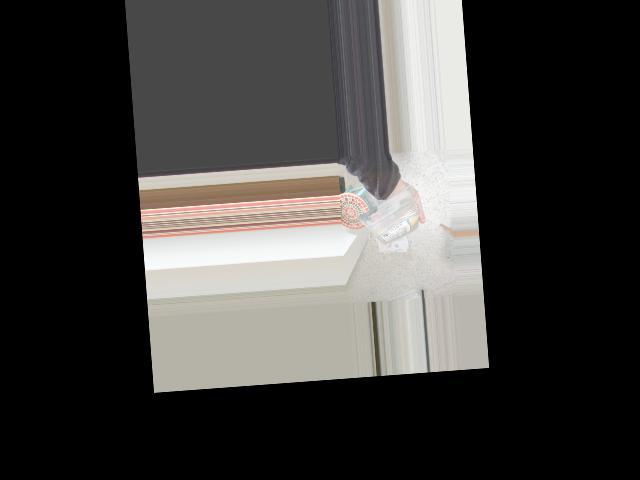cheese: (377, 194, 409, 260)
